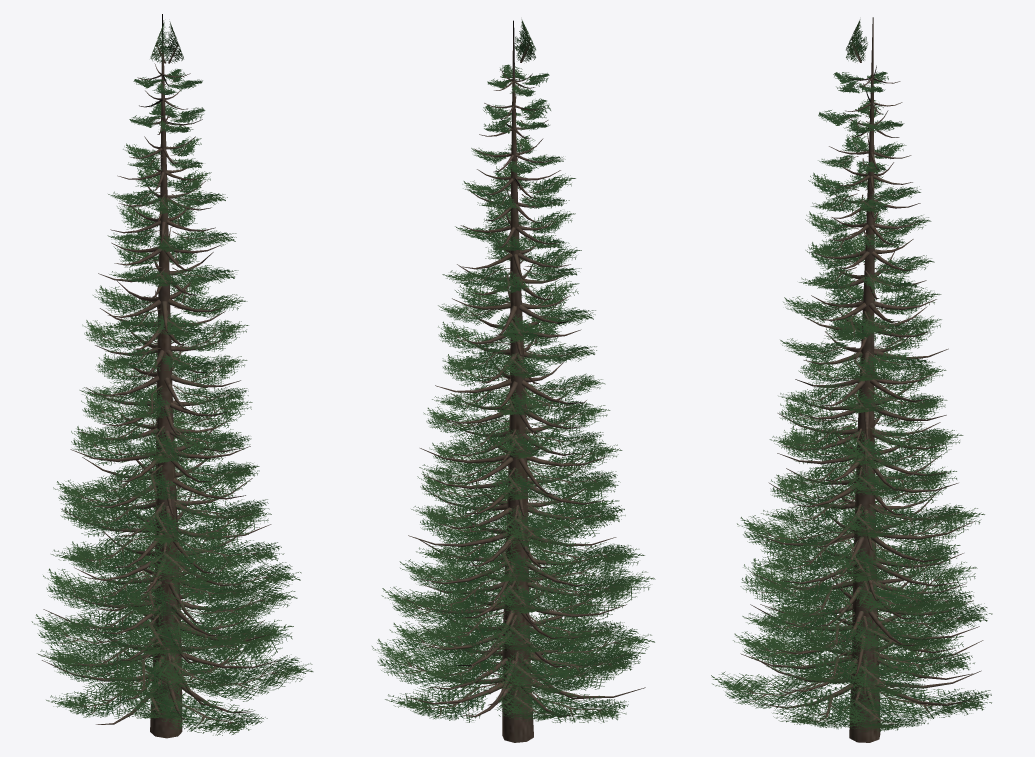
The model's file is hl-spruce-lod1.glb.
3 views of the same model, side by side, from view 1: azimuth 30°, elevation 25°; view 2: azimuth 150°, elevation 25°; view 3: azimuth 270°, elevation 25° (orthographic).
Visible parts, largest first — view 1: HeroSpruce_LOD1; view 2: HeroSpruce_LOD1; view 3: HeroSpruce_LOD1.
Part boxes in pixels (x1,y1,x2,y2): HeroSpruce_LOD1: [31, 14, 313, 738]; HeroSpruce_LOD1: [372, 19, 655, 742]; HeroSpruce_LOD1: [711, 17, 992, 742].
Bounding box in the file's own units: 6.4 × 16.06 × 6.43.
Materials: 2 (2 with a texture image).
